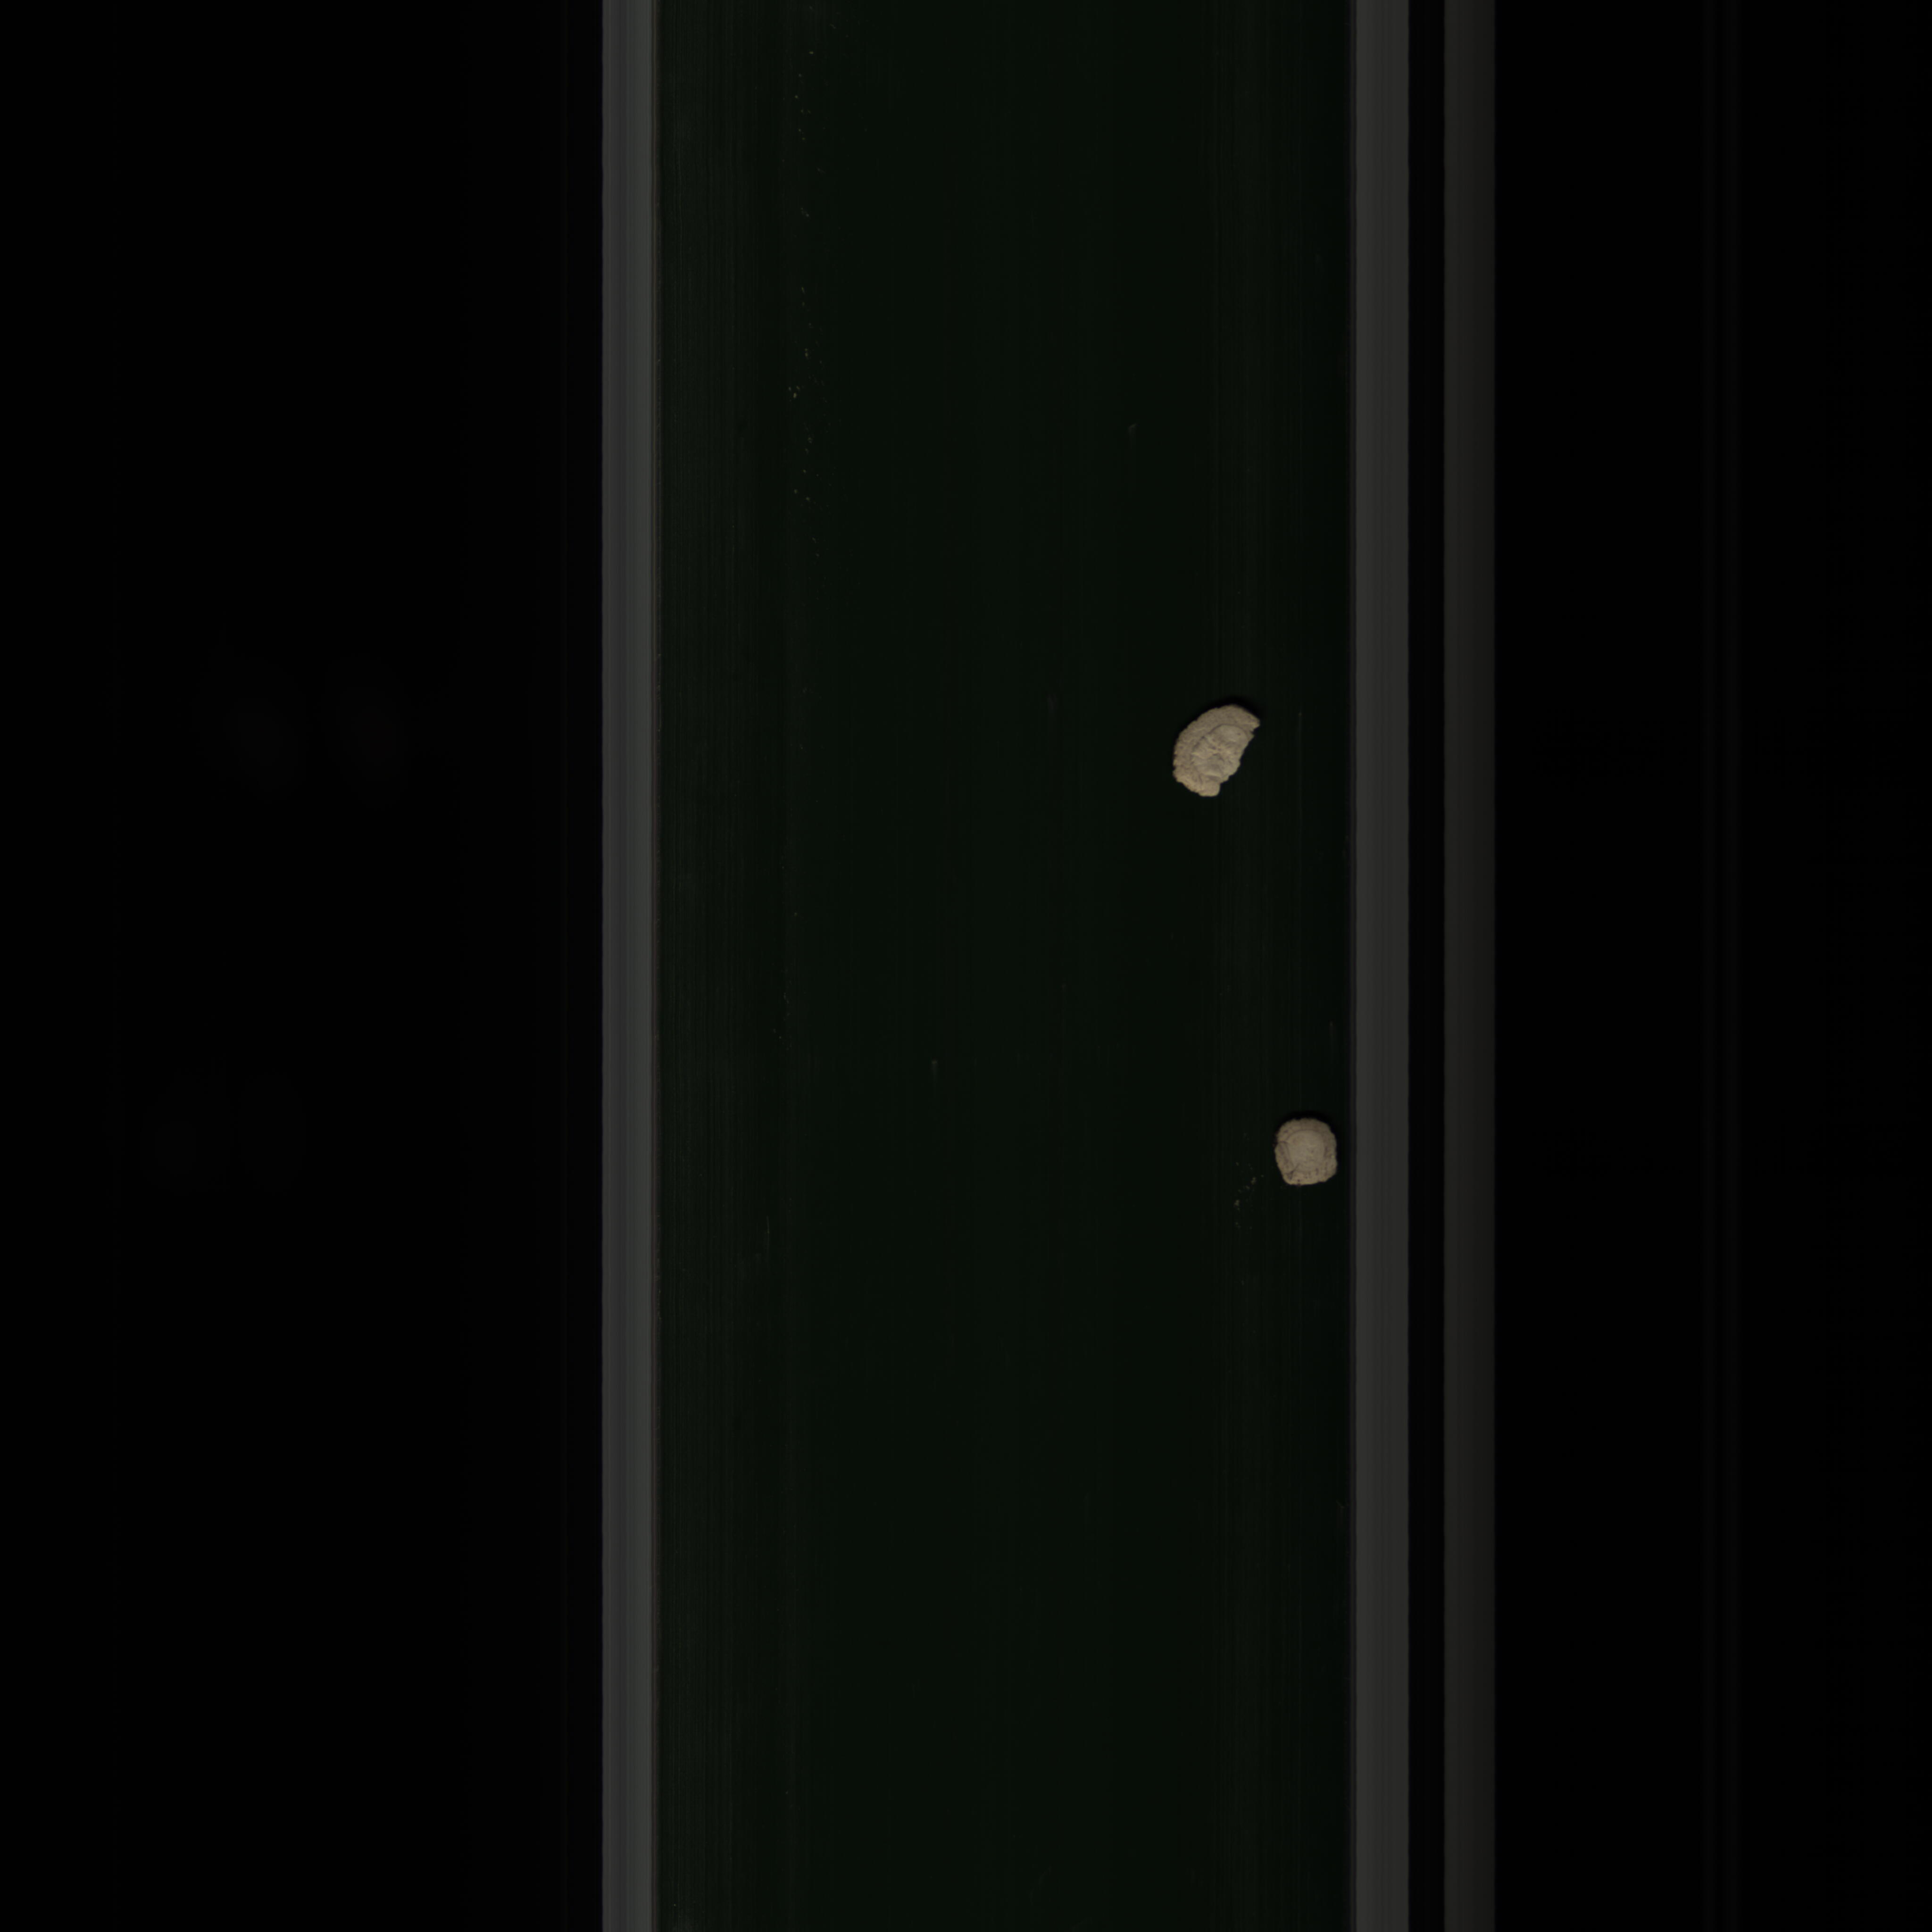debris: (1166, 694, 1274, 828)
